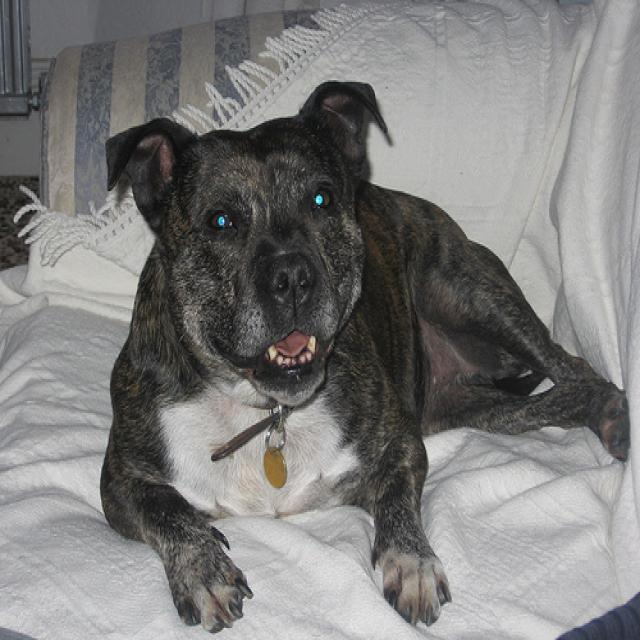dog-staffordshire_bull_terrier: (93, 63, 632, 637)
